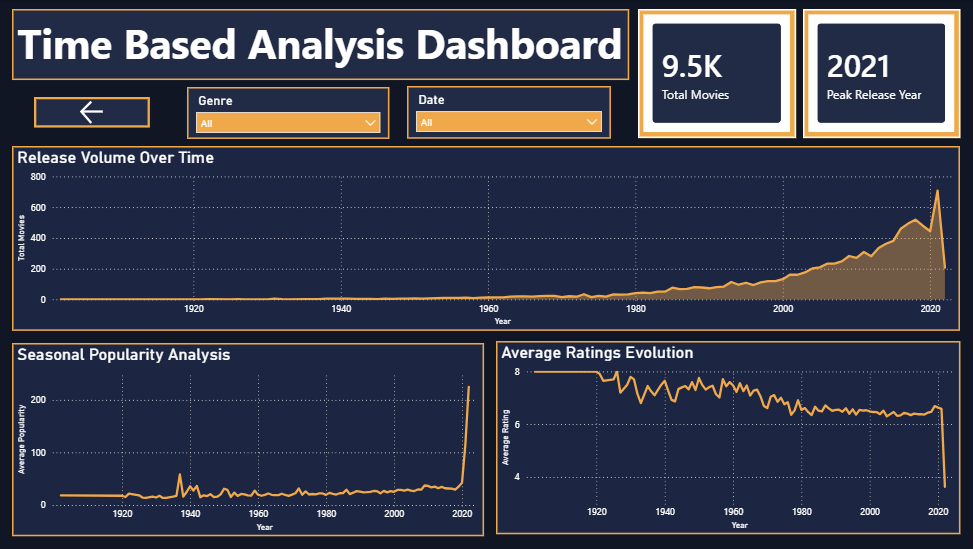

The page's visual inventory and layout, read from the dashboard file:
{"tool":"powerbi","page":{"name":"Time Based Analysis","canvas":[1280,720],"ordinal":4},"visuals":[{"type":"textbox","box":[22.3,11.8,807.7,92.9],"z":0},{"type":"actionButton","box":[51.7,126.7,151.7,40],"z":1000},{"type":"cardVisual","fields":{"Data":["Genre.Total Movies"]},"box":[841.7,11.8,206.8,168.9],"z":2000},{"type":"cardVisual","fields":{"Data":["Genre.Peak Release Year"]},"box":[1057.7,11.8,205.5,168.9],"z":3000},{"type":"lineChart","title":"Seasonal Popularity Analysis","fields":{"Category":["Date Table.Date.Variation.Date Hierarchy.Year"],"Y":["Genre.Average Popularity"]},"box":[22,448.7,618,253.2],"z":4000},{"type":"lineChart","title":"Average Ratings Evolution","fields":{"Y":["Genre.Average Rating"],"Category":["Date Table.Date.Variation.Date Hierarchy.Year"]},"box":[655.2,446.4,607.7,253.4],"z":5000},{"type":"areaChart","title":"Release Volume Over Time","fields":{"Category":["Date Table.Date.Variation.Date Hierarchy.Year"],"Y":["Genre.Total Movies"]},"box":[21.6,191.5,1241.3,241.9],"z":6000},{"type":"slicer","fields":{"Values":["Genre.Genre"]},"box":[251.7,113.3,265,68.3],"z":7000},{"type":"slicer","fields":{"Values":["Date Table.Date"]},"box":[539.5,112.9,267,68.8],"z":8000}]}

Visuals, with their boxes in screenshot pixels (x1, y1, x2, y2), scaled from the page's 1280x720 canvas onto the 973x549 screenshot:
textbox: region(17, 9, 631, 80)
actionButton: region(39, 97, 155, 127)
cardVisual - Genre.Total Movies: region(640, 9, 797, 138)
cardVisual - Genre.Peak Release Year: region(804, 9, 960, 138)
"Seasonal Popularity Analysis" lineChart: region(17, 342, 486, 535)
"Average Ratings Evolution" lineChart: region(498, 340, 960, 534)
"Release Volume Over Time" areaChart: region(16, 146, 960, 330)
slicer - Genre.Genre: region(191, 86, 393, 138)
slicer - Date Table.Date: region(410, 86, 613, 139)
